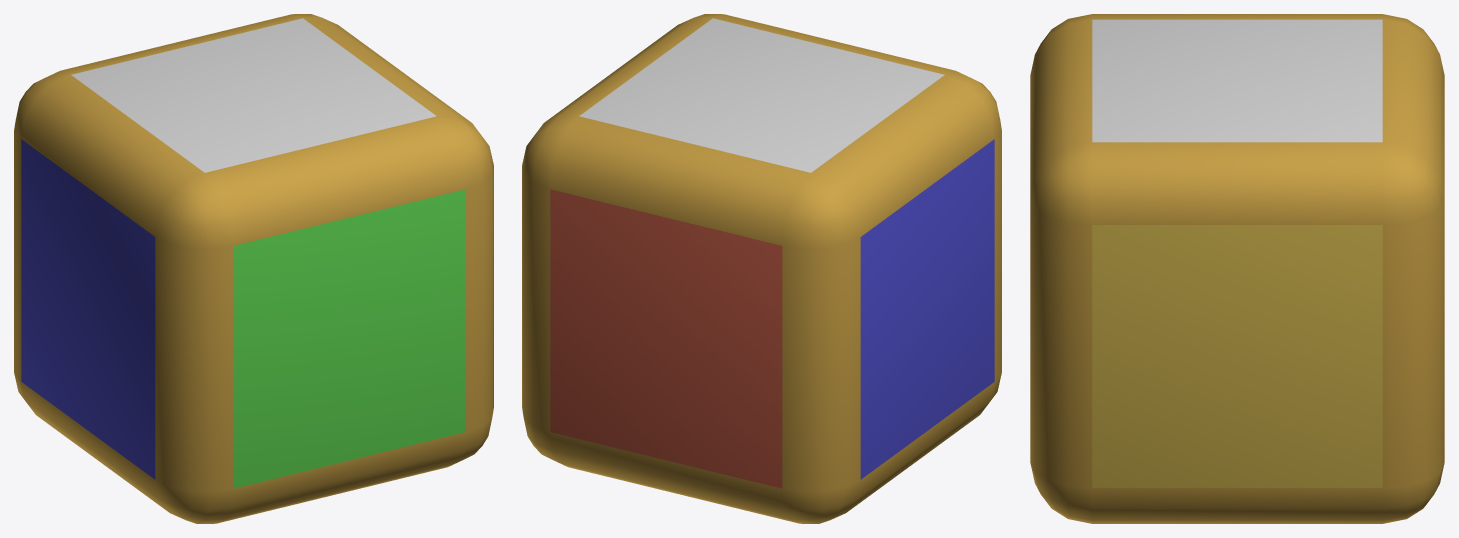
Rendered from Dice.fbx.
3 views of the same model, side by side, from view 1: azimuth 30°, elevation 25°; view 2: azimuth 150°, elevation 25°; view 3: azimuth 270°, elevation 25° (orthographic). The views are drawn at different scales.
Parts seen in each view (by area): view 1: Dice; view 2: Dice; view 3: Dice.
Part boxes in pixels (x1,y1,x2,y2): Dice: (14,14,493,523); Dice: (522,14,1001,523); Dice: (1030,14,1444,523).
Size of the model in its own units: 80 by 80 by 80.
